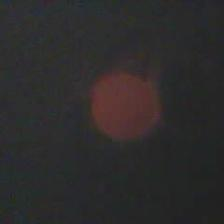fertile: (88, 72, 164, 144)
